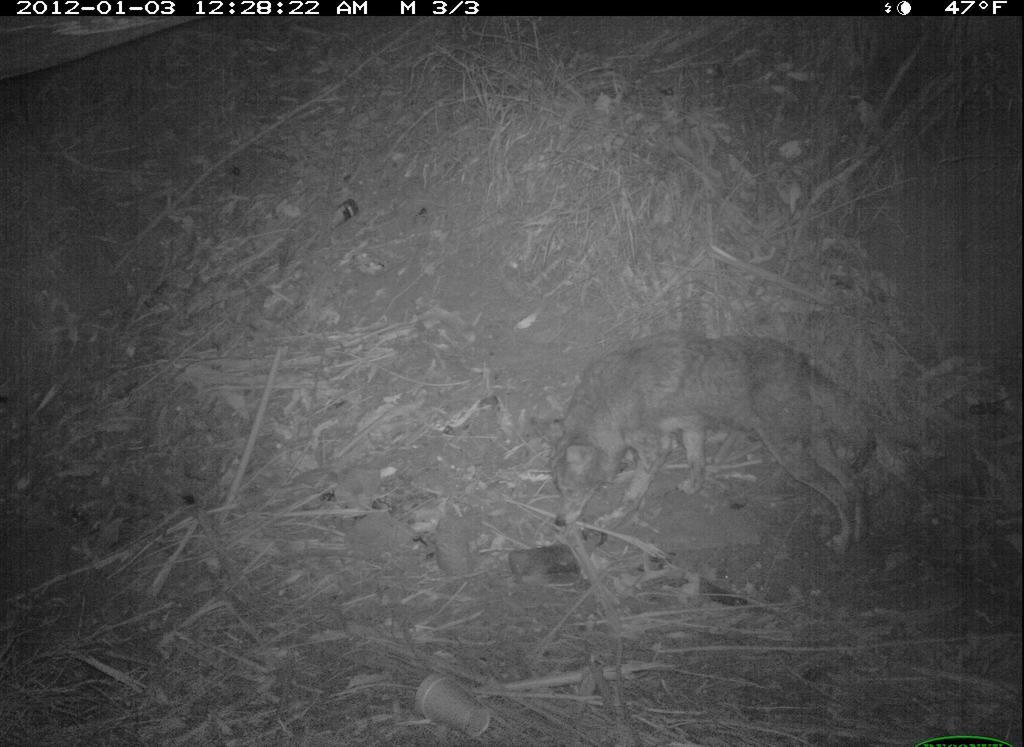coyote: (524, 323, 918, 568)
